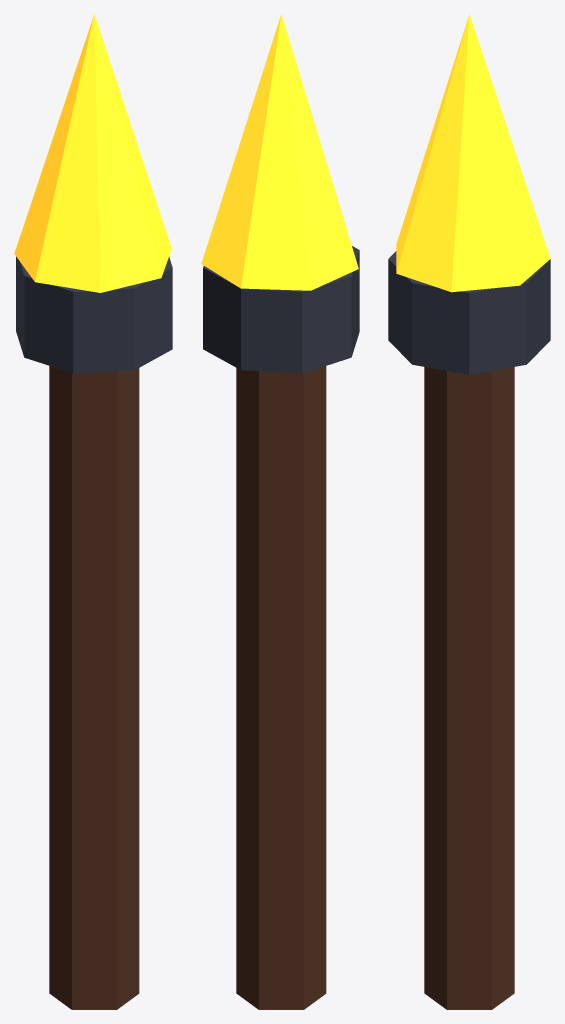
Rendered from torch.glb.
3 renders of one model, left to right at view 1: azimuth 30°, elevation 25°; view 2: azimuth 150°, elevation 25°; view 3: azimuth 270°, elevation 25°, orthographic.
Visible parts, largest first — view 1: torch; view 2: torch; view 3: torch.
Boxes of the visible parts, <box> form: torch: <box>14,14,172,1009</box>; torch: <box>201,14,359,1009</box>; torch: <box>388,14,550,1009</box>.
Size of the model in its own units: 0.18 by 1.2 by 0.18.
